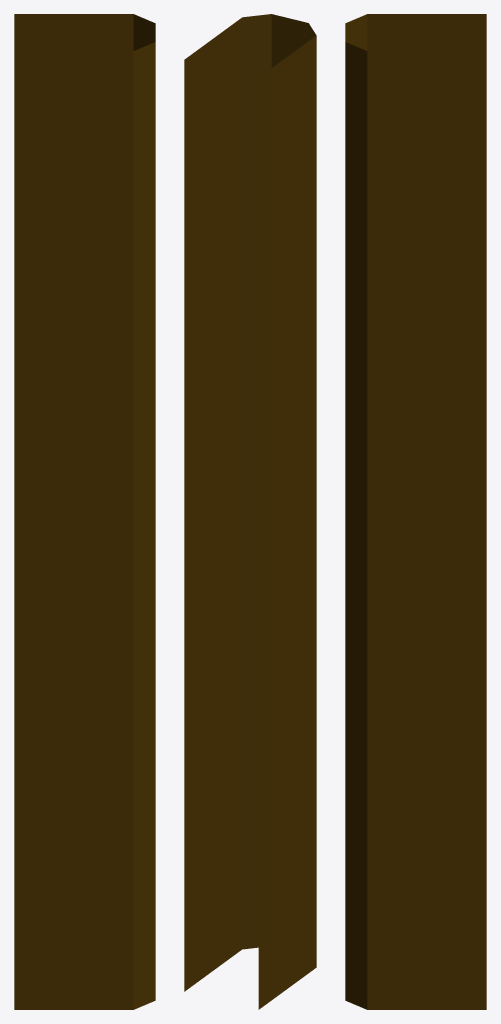
File: Viga.fbx
3 renders of one model, left to right at view 1: azimuth 90°, elevation 25°; view 2: azimuth 150°, elevation 25°; view 3: azimuth 270°, elevation 25°, orthographic. The views are drawn at different scales.
Parts seen in each view (by area): view 1: Columna; view 2: Columna; view 3: Columna.
Part boxes in pixels (bbox=[...]): Columna: bbox=[14, 14, 155, 1009]; Columna: bbox=[184, 14, 316, 1009]; Columna: bbox=[345, 14, 486, 1009].
Bounding box in the file's own units: 0.25 × 3 × 0.4003.
